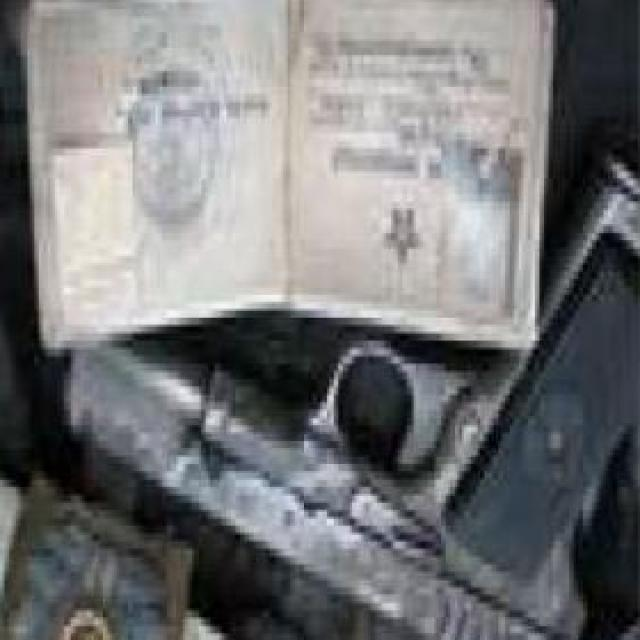pistol: (55, 133, 638, 640)
